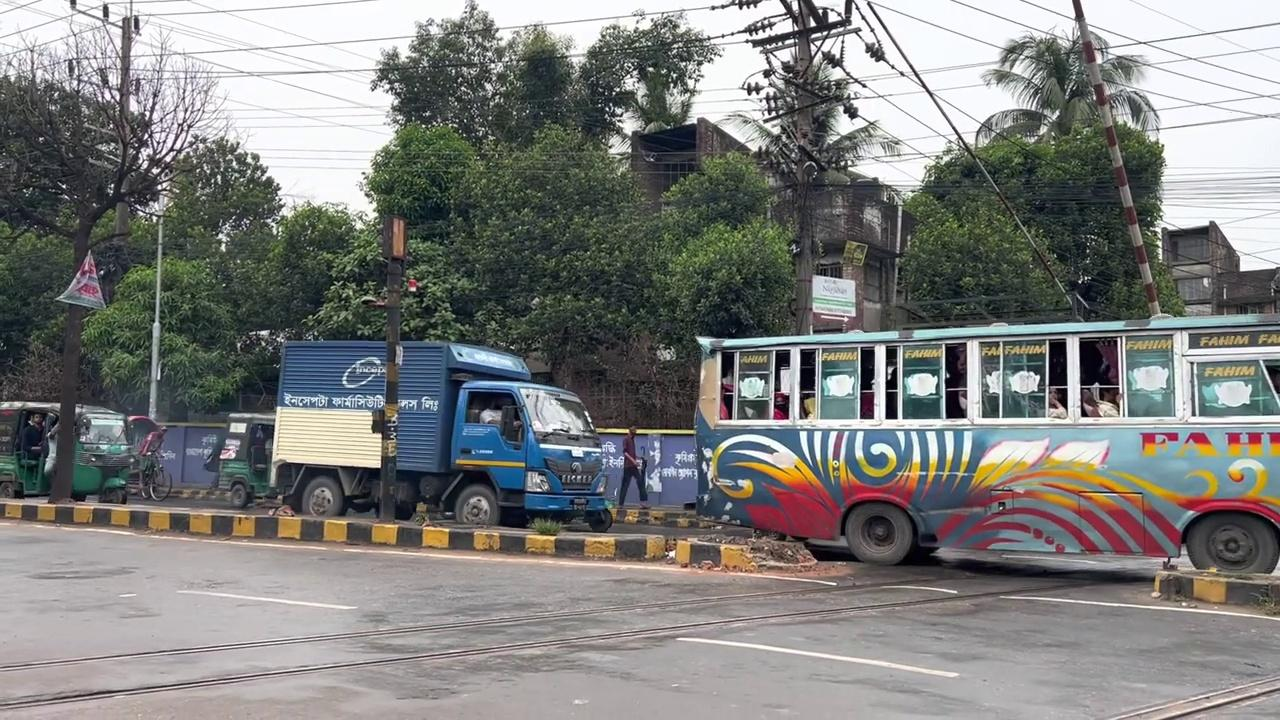Car: (1, 498, 827, 582)
Fence: (616, 425, 649, 507)
Garbage: (1070, 0, 1162, 316), (377, 214, 406, 523), (112, 14, 136, 238), (147, 211, 164, 420)
Rickshaw: (692, 312, 1278, 575), (267, 338, 613, 531), (0, 400, 135, 504), (203, 411, 276, 508)
